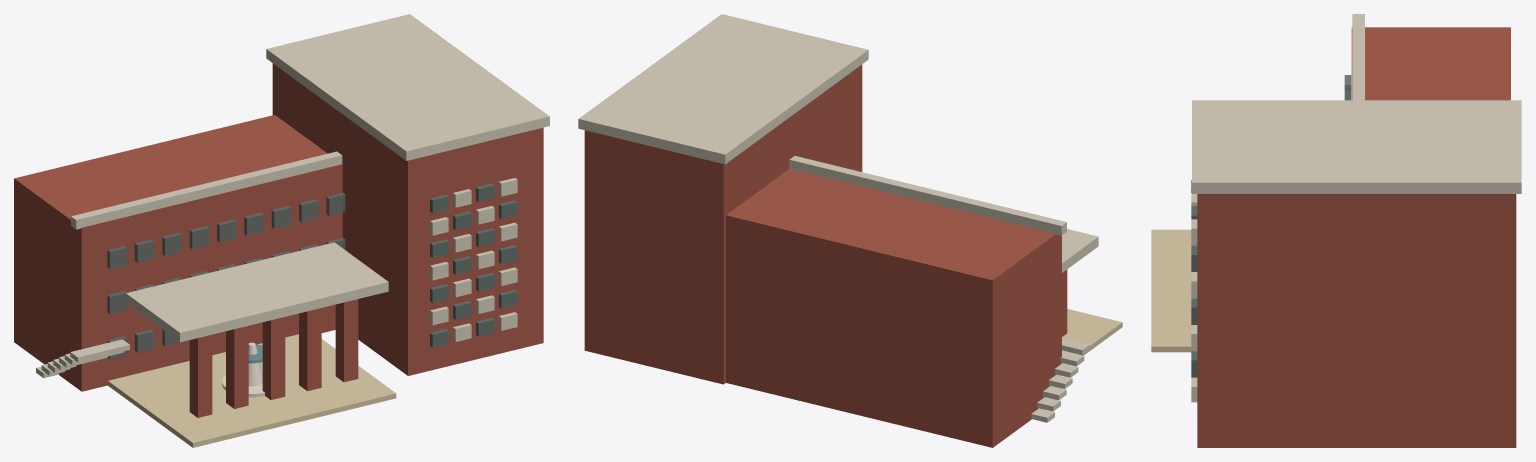
The model's file is national-library-stamford.glb.
3 renders of one model, left to right at view 1: azimuth 30°, elevation 25°; view 2: azimuth 150°, elevation 25°; view 3: azimuth 270°, elevation 25°, orthographic. The views are drawn at different scales.
Visible parts, largest first — view 1: main-brick-wing/main-wing, cross-wing/cross-wing, roof-parapets/form (×2), entrance-porch/canopy, courtyard-void/courtyard-floor, brick-porch-piers/porch-pier-1, brick-porch-piers/porch-pier-5, brick-porch-piers/porch-pier-3, brick-porch-piers/porch-pier-4, brick-porch-piers/porch-pier-2, external-stair/stair-6, courtyard-fountain/tapered; view 2: main-brick-wing/main-wing, cross-wing/cross-wing, roof-parapets/form (×2), courtyard-void/courtyard-floor, entrance-porch/canopy; view 3: cross-wing/cross-wing, roof-parapets/form (×2), main-brick-wing/main-wing, courtyard-void/courtyard-floor.
Boxes of the visible parts, x1=… form: main-brick-wing/main-wing: x1=14, y1=115, x2=342, y2=391; cross-wing/cross-wing: x1=272, y1=63, x2=543, y2=375; roof-parapets/form (×2): x1=71, y1=14, x2=549, y2=229; entrance-porch/canopy: x1=126, y1=242, x2=388, y2=342; courtyard-void/courtyard-floor: x1=108, y1=334, x2=396, y2=447; brick-porch-piers/porch-pier-1: x1=189, y1=334, x2=212, y2=417; brick-porch-piers/porch-pier-5: x1=335, y1=299, x2=358, y2=382; brick-porch-piers/porch-pier-3: x1=262, y1=317, x2=285, y2=399; brick-porch-piers/porch-pier-4: x1=299, y1=308, x2=321, y2=391; brick-porch-piers/porch-pier-2: x1=226, y1=326, x2=248, y2=408; external-stair/stair-6: x1=70, y1=339, x2=129, y2=362; courtyard-fountain/tapered: x1=248, y1=342, x2=262, y2=386; main-brick-wing/main-wing: x1=726, y1=169, x2=1061, y2=447; cross-wing/cross-wing: x1=584, y1=64, x2=862, y2=384; roof-parapets/form (×2): x1=578, y1=14, x2=1066, y2=235; courtyard-void/courtyard-floor: x1=1062, y1=309, x2=1122, y2=364; entrance-porch/canopy: x1=1062, y1=229, x2=1098, y2=272; cross-wing/cross-wing: x1=1197, y1=194, x2=1516, y2=447; roof-parapets/form (×2): x1=1192, y1=14, x2=1521, y2=193; main-brick-wing/main-wing: x1=1351, y1=27, x2=1510, y2=100; courtyard-void/courtyard-floor: x1=1151, y1=229, x2=1191, y2=352.
Bounding box in the file's own units: 15.95 × 8.34 × 10.45.
